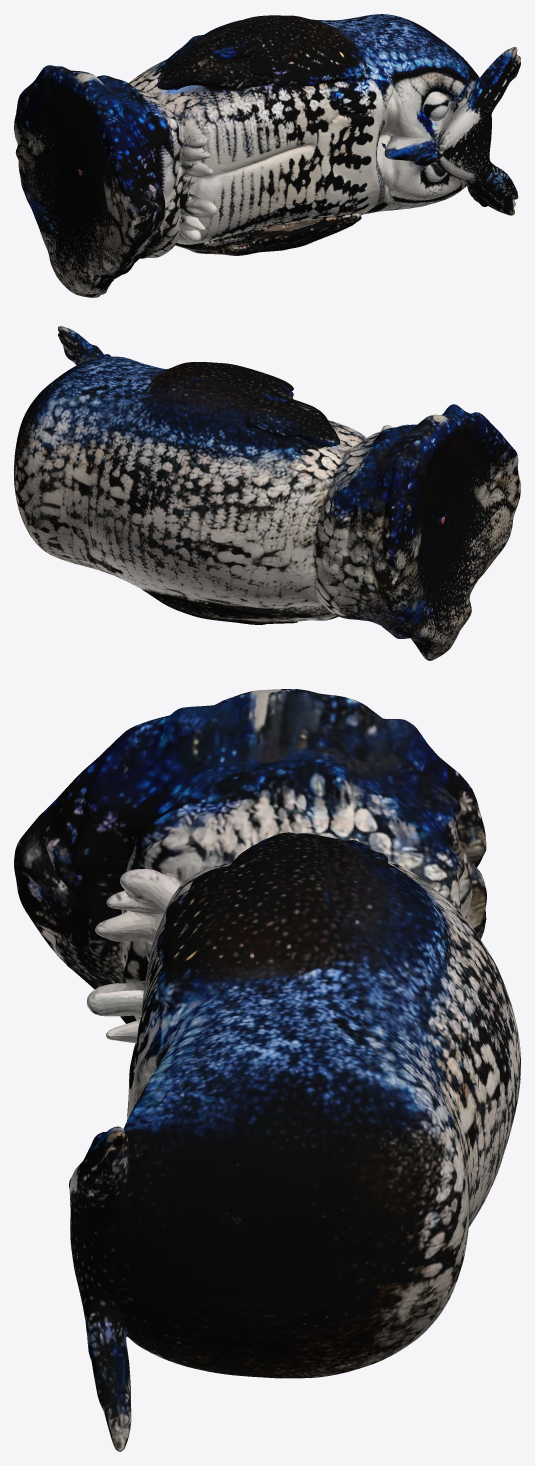
File: black-and-white-owl.glb
3 views of the same model, one above another, from view 1: azimuth 30°, elevation 25°; view 2: azimuth 150°, elevation 25°; view 3: azimuth 270°, elevation 25° (orthographic). The views are drawn at different scales.
Parts seen in each view (by area): view 1: black and white owl_textured.obj; view 2: black and white owl_textured.obj; view 3: black and white owl_textured.obj.
Boxes of the visible parts, box(x1,y1,x2,y2) form: black and white owl_textured.obj: box(14, 14, 520, 297); black and white owl_textured.obj: box(14, 326, 520, 660); black and white owl_textured.obj: box(14, 689, 520, 1451).
Bounding box in the file's own units: 1.99 × 1.03 × 1.1.
Materials: 1 (1 with a texture image).
